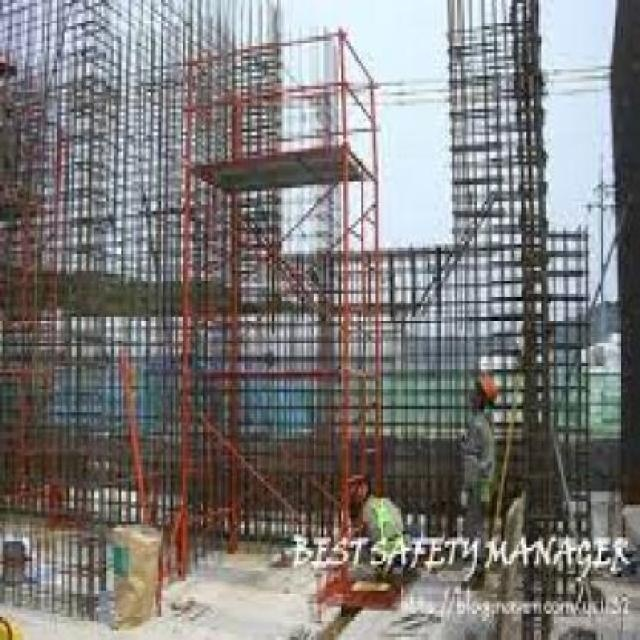Arnes_seguridad: (364, 499, 406, 579)
